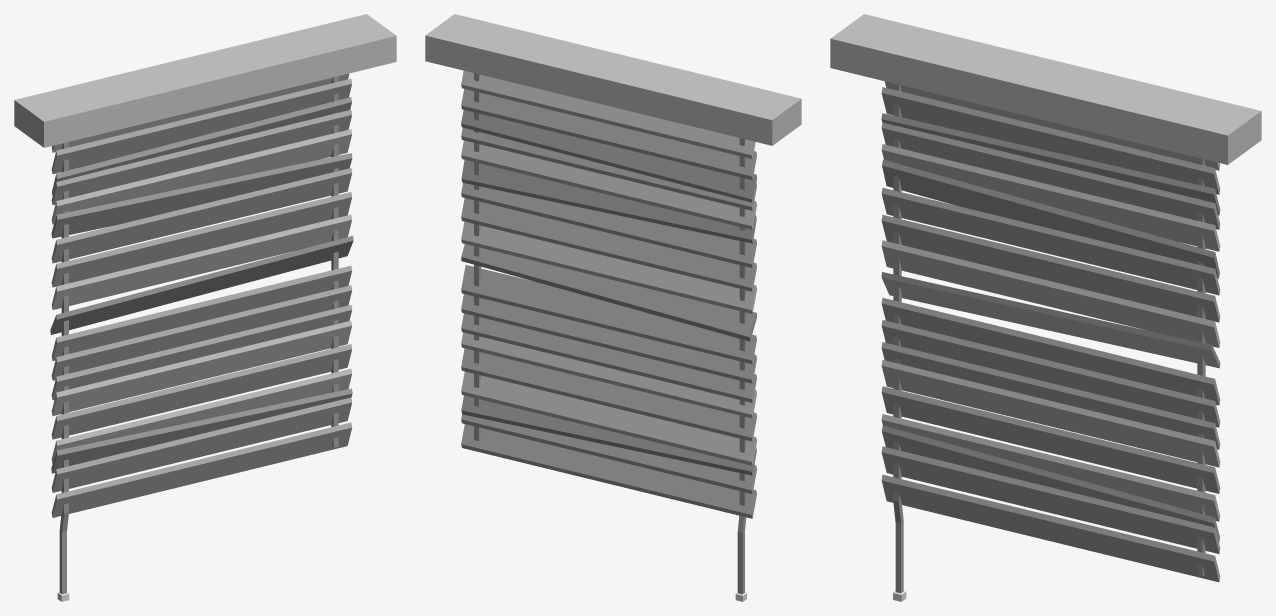
The model's file is SM_Bld_House_Window_Blinds_01.fbx.
3 views of the same model, side by side, from view 1: azimuth 30°, elevation 25°; view 2: azimuth 150°, elevation 25°; view 3: azimuth 330°, elevation 25° (orthographic). The views are drawn at different scales.
Visible parts, largest first — view 1: SM_Bld_House_Window_Blinds_01; view 2: SM_Bld_House_Window_Blinds_01; view 3: SM_Bld_House_Window_Blinds_01.
Boxes of the visible parts, box(x1,y1,x2,y2) form: SM_Bld_House_Window_Blinds_01: box(14, 14, 396, 601); SM_Bld_House_Window_Blinds_01: box(425, 14, 801, 601); SM_Bld_House_Window_Blinds_01: box(830, 14, 1261, 601).
Size of the model in its own units: 111 by 151 by 16.27.
